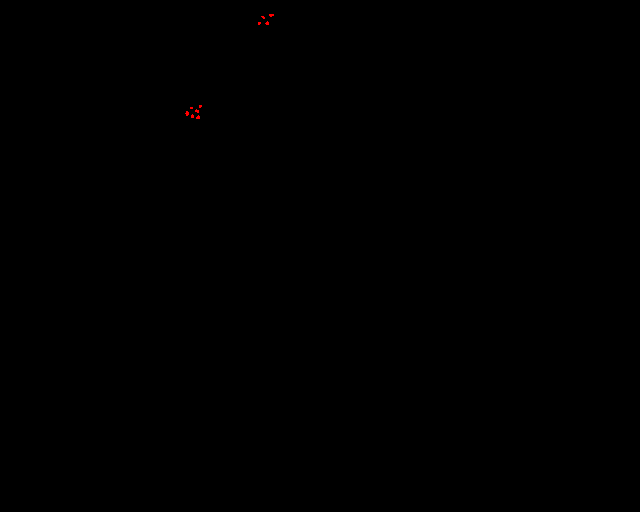Target: (185, 111, 189, 116), (265, 21, 269, 25), (195, 109, 199, 113), (196, 115, 200, 119), (269, 14, 274, 17), (261, 16, 265, 19), (191, 114, 194, 118), (258, 22, 261, 25), (199, 105, 202, 108), (190, 107, 193, 109)
